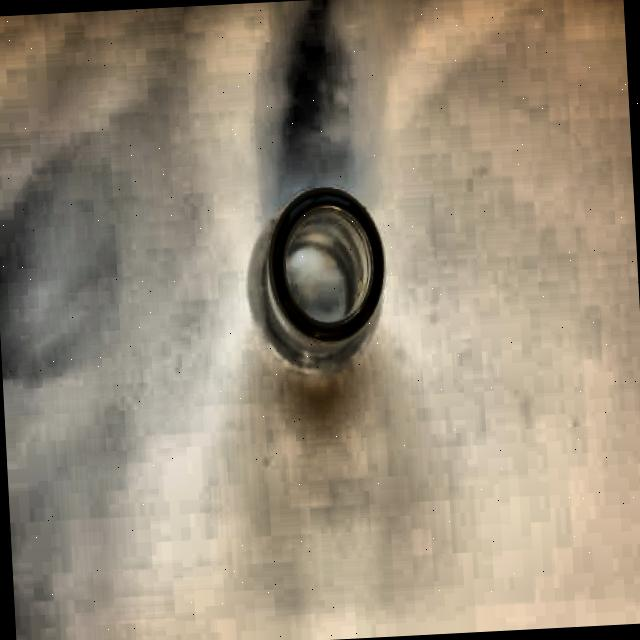glass: (252, 186, 394, 380)
